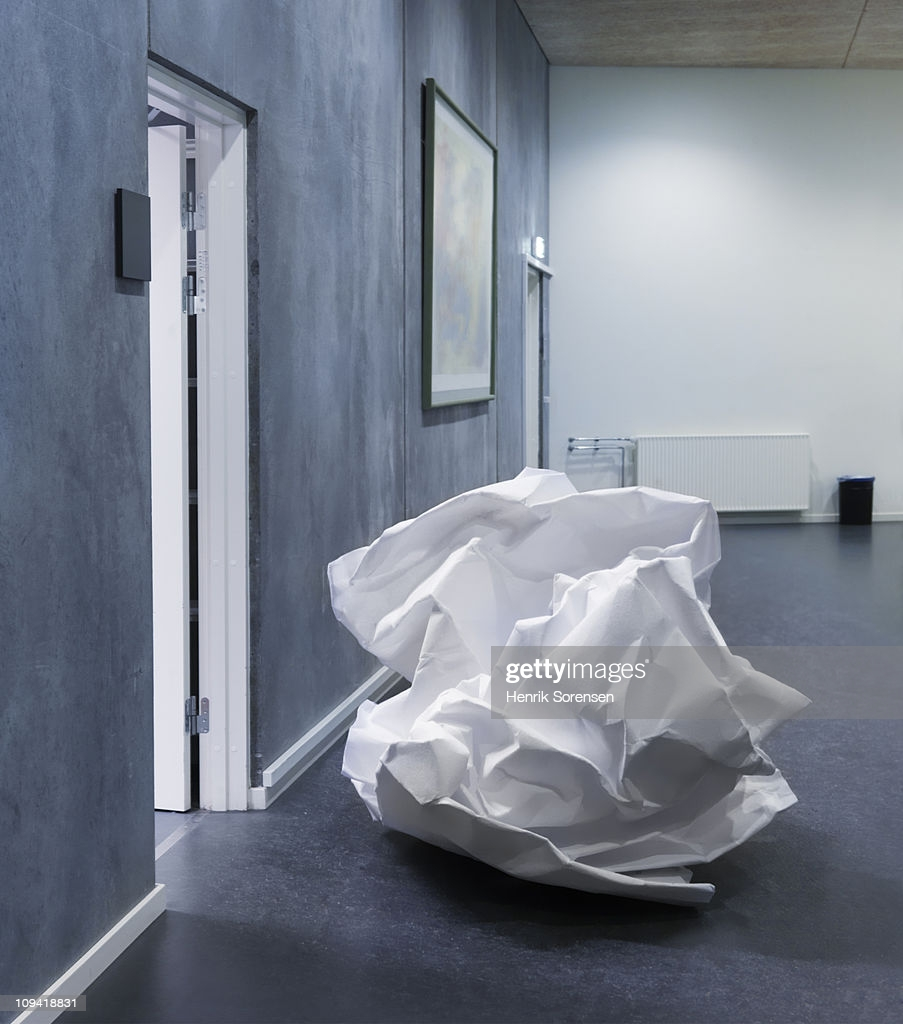paper: (281, 379, 859, 970)
